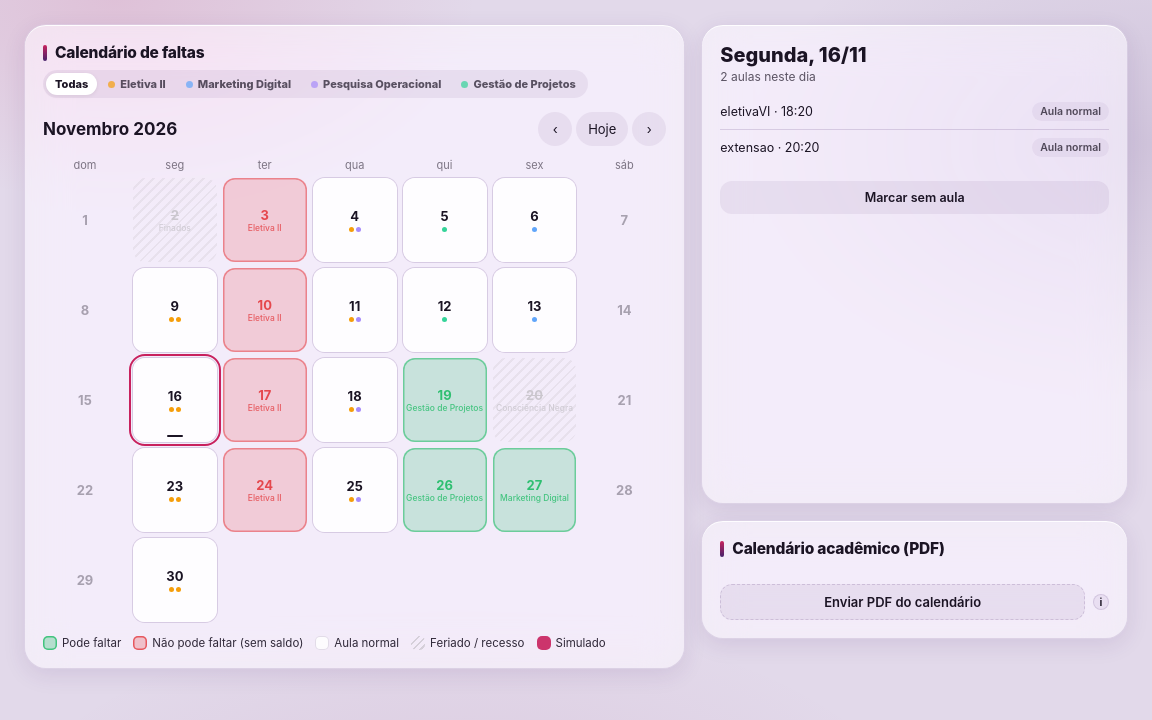
Calendário page › observations: two-class day, save-for-later, holiday and simulado day
The image size is (1152, 720).
Click the button "19 Gestão de Projetos" at (445, 400), box x1=403 y1=358 x2=486 y2=442
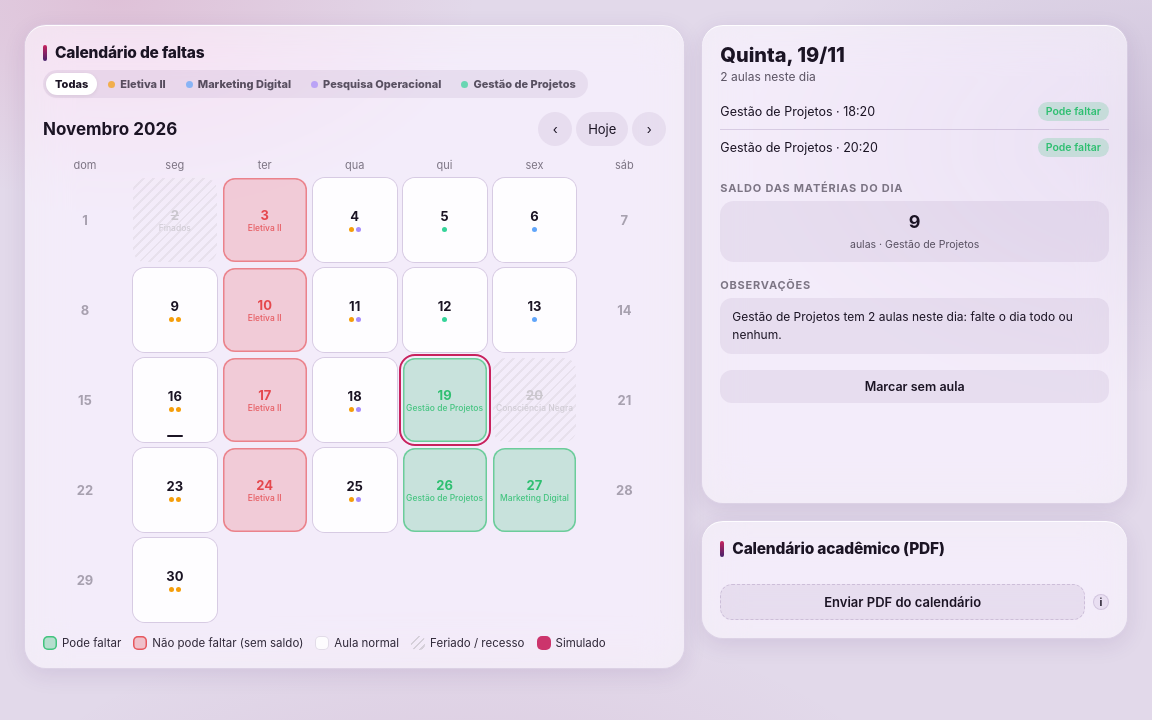
expect the text "Gestão de Projetos tem 2 aulas neste dia: falte o dia todo ou nenhum." is shown: met, box x1=732 y1=308 x2=1097 y2=344
Click the button "18" at (355, 400), box x1=313 y1=358 x2=397 y2=442
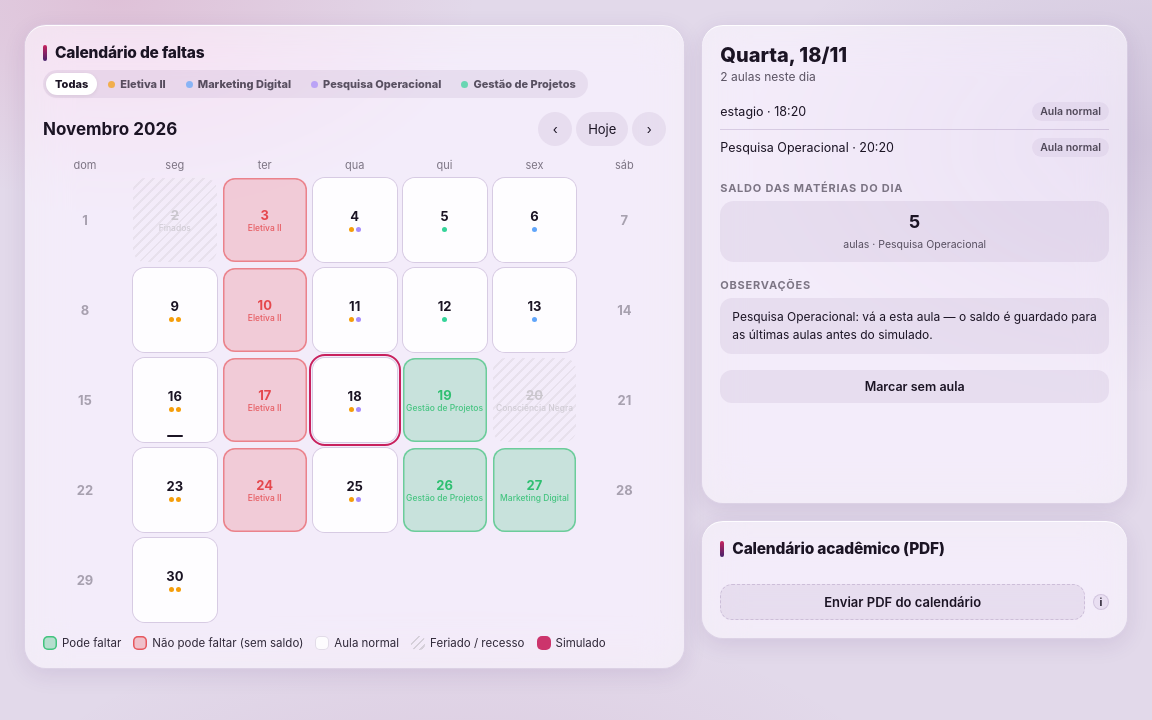
expect the text "Pesquisa Operacional: vá a esta aula — o saldo é guardado" is shown: met, box x1=732 y1=309 x2=1097 y2=342
Click the button "20 Consciência Negra" at (534, 400), box x1=492 y1=358 x2=576 y2=442
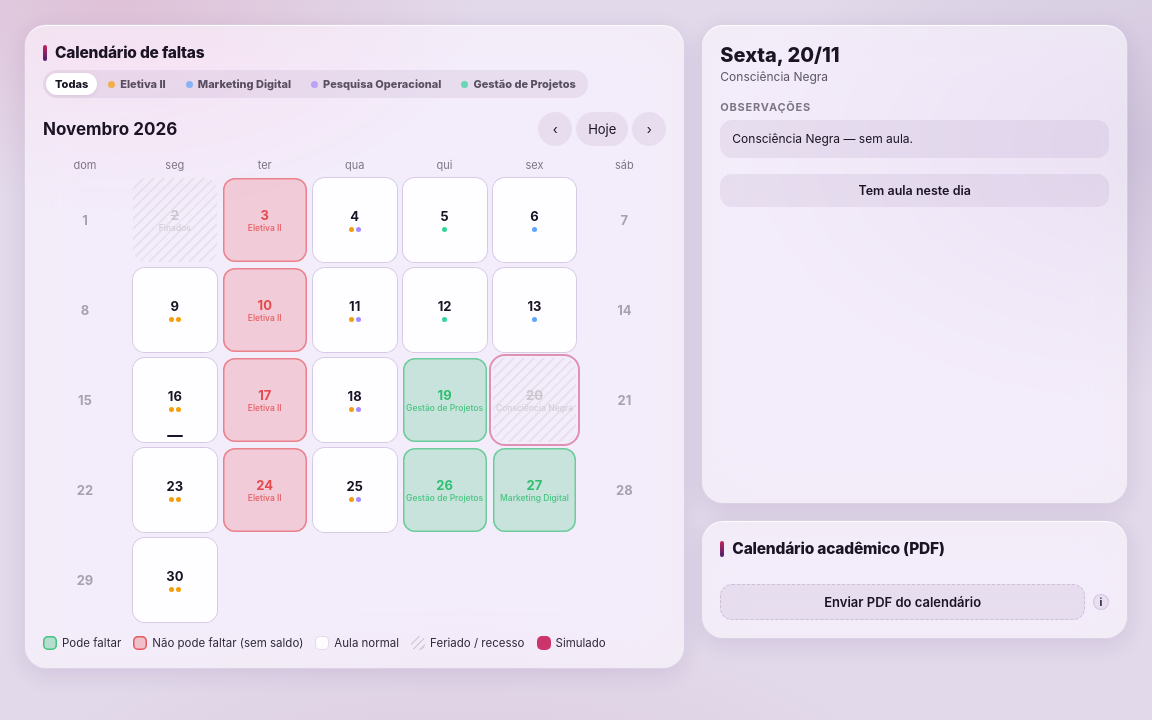
expect the text "Consciência Negra — sem aula." is shown: met, box x1=732 y1=131 x2=913 y2=146
Click the button named "Próximo mês" at (649, 129), box x1=632 y1=112 x2=666 y2=146
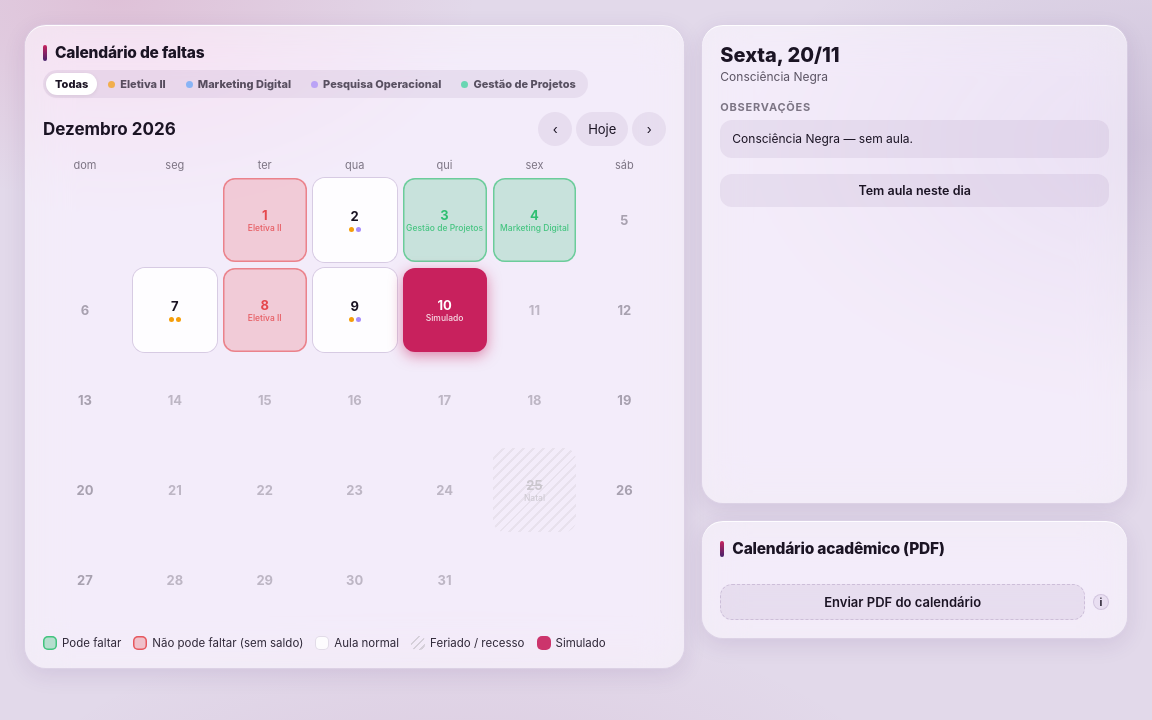
Click the button "10 Simulado" at (445, 310), box x1=403 y1=268 x2=486 y2=352
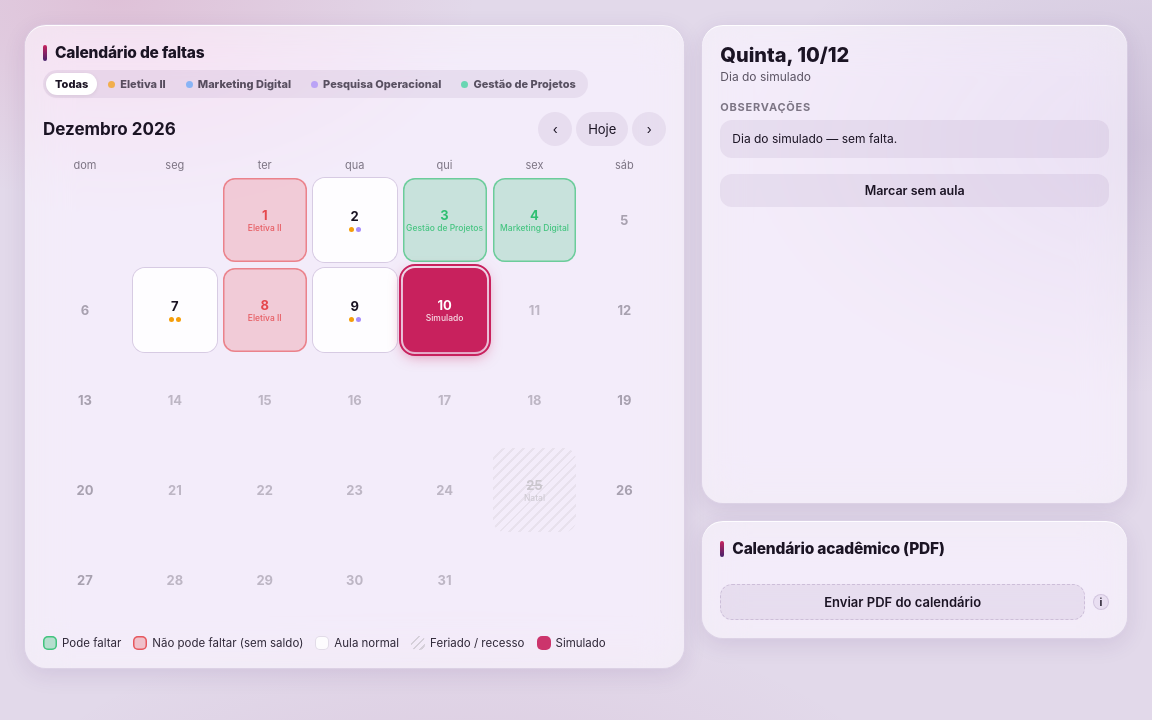
expect the text "Dia do simulado — sem falta." is shown: met, box x1=732 y1=131 x2=897 y2=146
